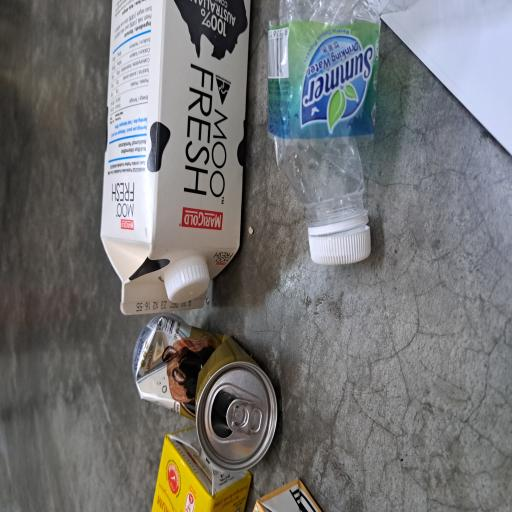can: (31, 175, 150, 372)
drink carton: (148, 135, 384, 334), (0, 202, 63, 338), (0, 334, 25, 433)
plastic bottle cap: (218, 357, 384, 509), (186, 412, 216, 494), (156, 221, 188, 282)
pop tab: (58, 302, 86, 352)
